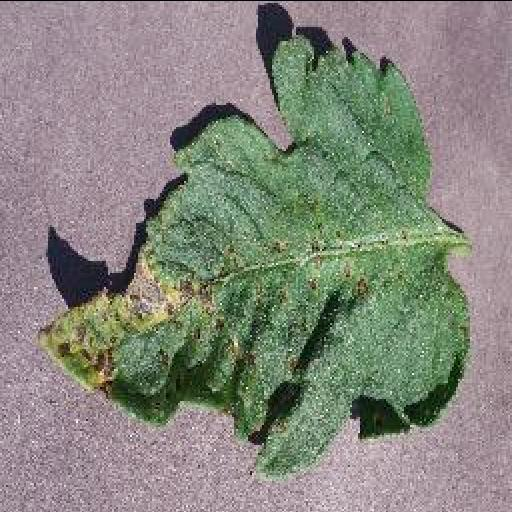disease_tomato: (25, 34, 475, 476)
